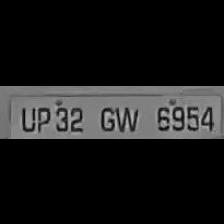2: (66, 102, 86, 132)
3: (52, 102, 69, 132)
4: (197, 102, 215, 130)
5: (185, 102, 199, 131)
6: (152, 102, 172, 132)
9: (168, 101, 184, 131)
G: (94, 103, 118, 132)
P: (31, 103, 50, 132)
U: (16, 104, 36, 132)
W: (118, 103, 138, 132)
